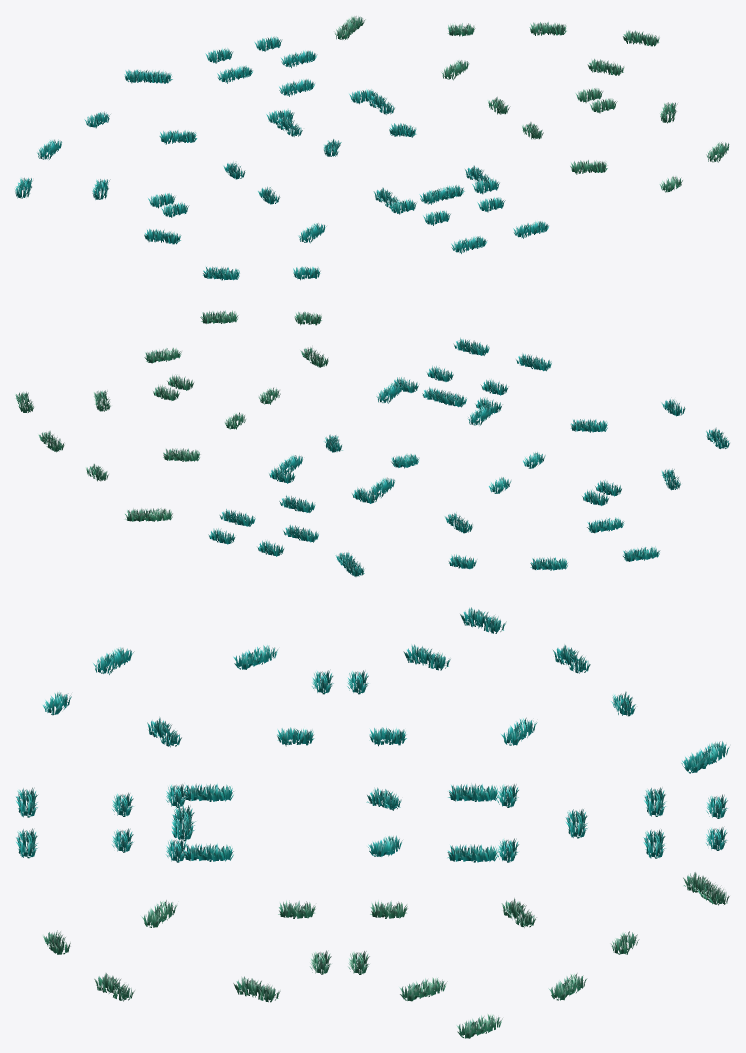
Rendered from pref_SightBlockerGrasses_winter_beta_01_lv1.fbx.
3 renders of one model, top to bottom at view 1: azimuth 30°, elevation 25°; view 2: azimuth 150°, elevation 25°; view 3: azimuth 270°, elevation 25°, orthographic. The views are drawn at different scales.
Visible parts, largest first — view 1: pref_sm_beach_techgrass_alpha_01_lv1 (×2); view 2: pref_sm_beach_techgrass_alpha_yellow01_lv1, pref_sm_beach_techgrass_alpha_01_lv1; view 3: pref_sm_beach_techgrass_alpha_03_lv1 (×4), pref_sm_beach_techgrass_alpha_01_lv1, pref_sm_beach_techgrass_alpha_yellow01_lv1.
Boxes of the visible parts, <box> form: pref_sm_beach_techgrass_alpha_01_lv1 (×2): <box>124,69,464,204</box>; pref_sm_beach_techgrass_alpha_yellow01_lv1: <box>124,507,173,521</box>; pref_sm_beach_techgrass_alpha_01_lv1: <box>422,386,467,407</box>; pref_sm_beach_techgrass_alpha_03_lv1 (×4): <box>183,783,499,862</box>; pref_sm_beach_techgrass_alpha_01_lv1: <box>681,741,729,773</box>; pref_sm_beach_techgrass_alpha_yellow01_lv1: <box>682,872,729,905</box>.
Bounding box in the file's own units: 116 × 2.12 × 83.2.
